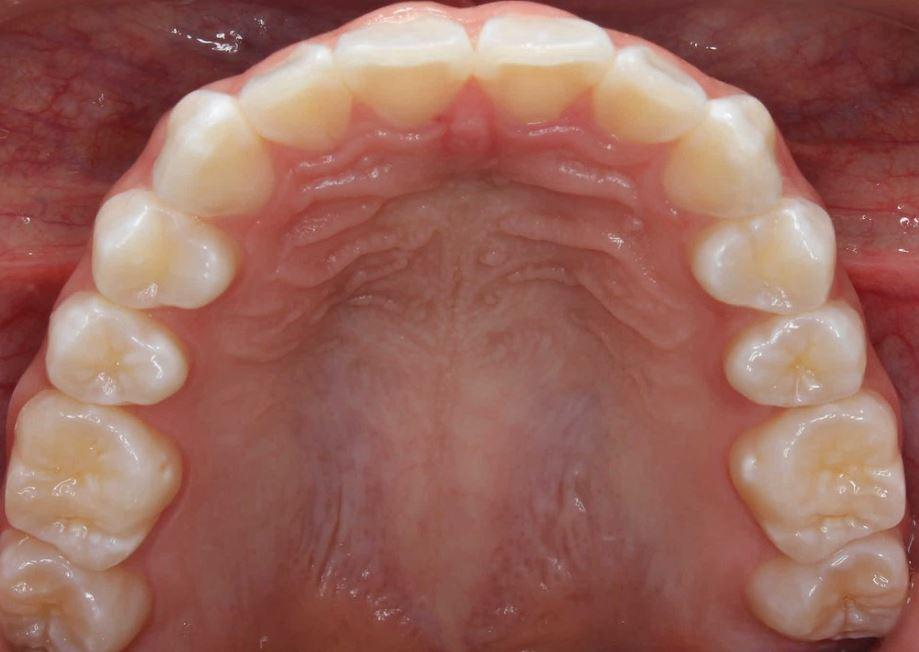1st Molar: (730, 390, 911, 562), (6, 392, 182, 568)
1st Premolar: (91, 188, 242, 313), (692, 193, 837, 313)
2nd Molar: (1, 533, 152, 652), (747, 533, 909, 643)
2nd Premolar: (46, 290, 192, 407), (719, 298, 867, 407)
Canine: (154, 88, 279, 220), (664, 97, 782, 220)
Central Incisor: (337, 12, 479, 132), (479, 17, 610, 130)
Lateral Incisor: (246, 40, 352, 163), (597, 43, 711, 148)
